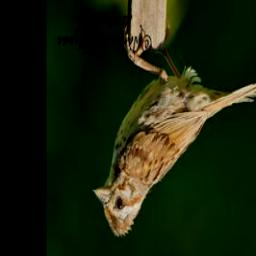Sparrow: (95, 17, 256, 240)
